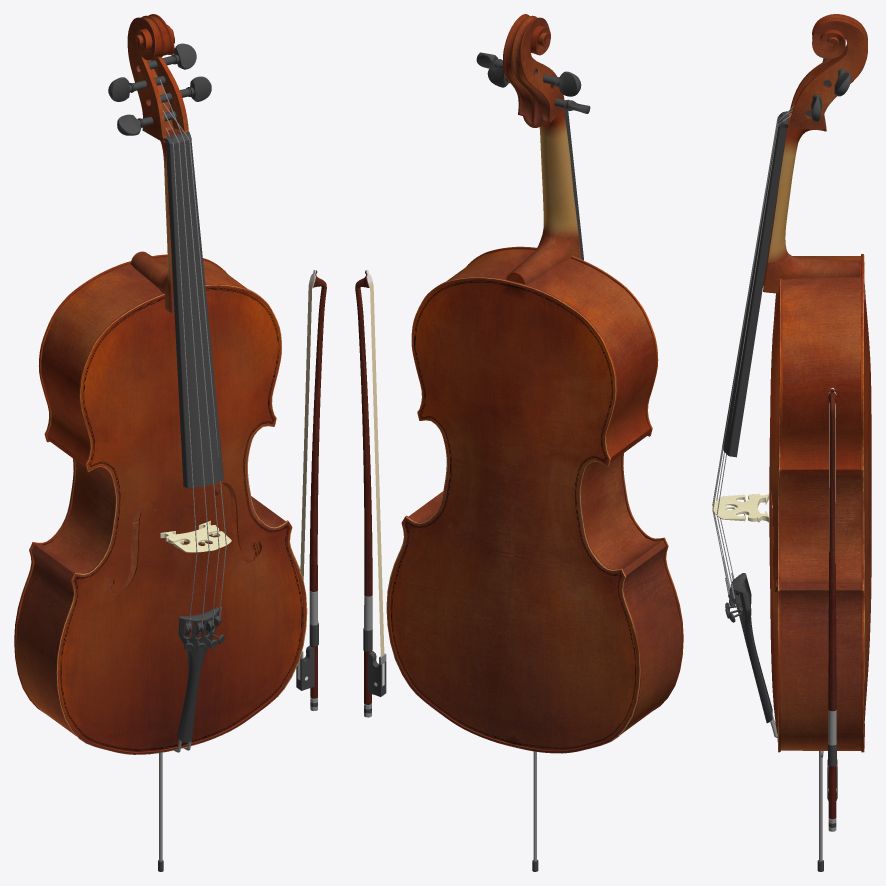
The model's file is 无标题.glb.
3 renders of one model, left to right at view 1: azimuth 30°, elevation 25°; view 2: azimuth 150°, elevation 25°; view 3: azimuth 270°, elevation 25°, orthographic.
Parts seen in each view (by area): view 1: arch67_13_01, arch67_13_04, arch67_13_05, arch67_13_06, arch67_13_02, arch67_13_18, arch67_13_10, arch67_13_08, arch67_13_15, arch67_13_16; view 2: arch67_13_01, arch67_13_05, arch67_13_18, arch67_13_15, arch67_13_02, arch67_13_16; view 3: arch67_13_01, arch67_13_05, arch67_13_04, arch67_13_18, arch67_13_06, arch67_13_10, arch67_13_08, arch67_13_02, arch67_13_11, arch67_13_19, arch67_13_16.
Part boxes in pixels (x1=…): arch67_13_01: x1=14, y1=254, x2=307, y2=754; arch67_13_04: x1=163, y1=139, x2=223, y2=488; arch67_13_05: x1=127, y1=14, x2=189, y2=313; arch67_13_06: x1=159, y1=79, x2=226, y2=628; arch67_13_02: x1=108, y1=43, x2=211, y2=135; arch67_13_18: x1=309, y1=270, x2=326, y2=698; arch67_13_10: x1=177, y1=607, x2=219, y2=742; arch67_13_08: x1=160, y1=520, x2=231, y2=552; arch67_13_15: x1=300, y1=280, x2=313, y2=579; arch67_13_16: x1=296, y1=623, x2=318, y2=707; arch67_13_01: x1=386, y1=246, x2=683, y2=753; arch67_13_05: x1=503, y1=14, x2=581, y2=284; arch67_13_18: x1=355, y1=270, x2=372, y2=704; arch67_13_15: x1=369, y1=281, x2=384, y2=656; arch67_13_02: x1=476, y1=52, x2=590, y2=113; arch67_13_16: x1=363, y1=628, x2=386, y2=713; arch67_13_01: x1=769, y1=254, x2=871, y2=752; arch67_13_05: x1=763, y1=14, x2=867, y2=293; arch67_13_04: x1=722, y1=124, x2=787, y2=457; arch67_13_18: x1=828, y1=389, x2=836, y2=819; arch67_13_06: x1=712, y1=105, x2=794, y2=599; arch67_13_10: x1=730, y1=573, x2=772, y2=723; arch67_13_08: x1=712, y1=493, x2=769, y2=522; arch67_13_02: x1=806, y1=58, x2=851, y2=122; arch67_13_11: x1=819, y1=751, x2=823, y2=861; arch67_13_19: x1=827, y1=710, x2=837, y2=831; arch67_13_16: x1=827, y1=743, x2=837, y2=827.
Bounding box in the file's own units: 0.5106 × 1.39 × 0.2362.
8 materials, 4 textured.
